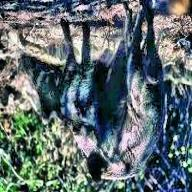boar: (74, 12, 178, 189), (20, 10, 131, 145)
